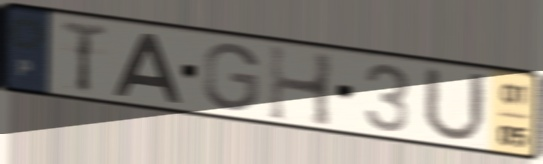3: (362, 61, 411, 133)
A: (110, 30, 185, 106)
G: (200, 40, 262, 114)
H: (266, 41, 337, 131)
T: (59, 17, 111, 95)
U: (419, 62, 490, 146)
